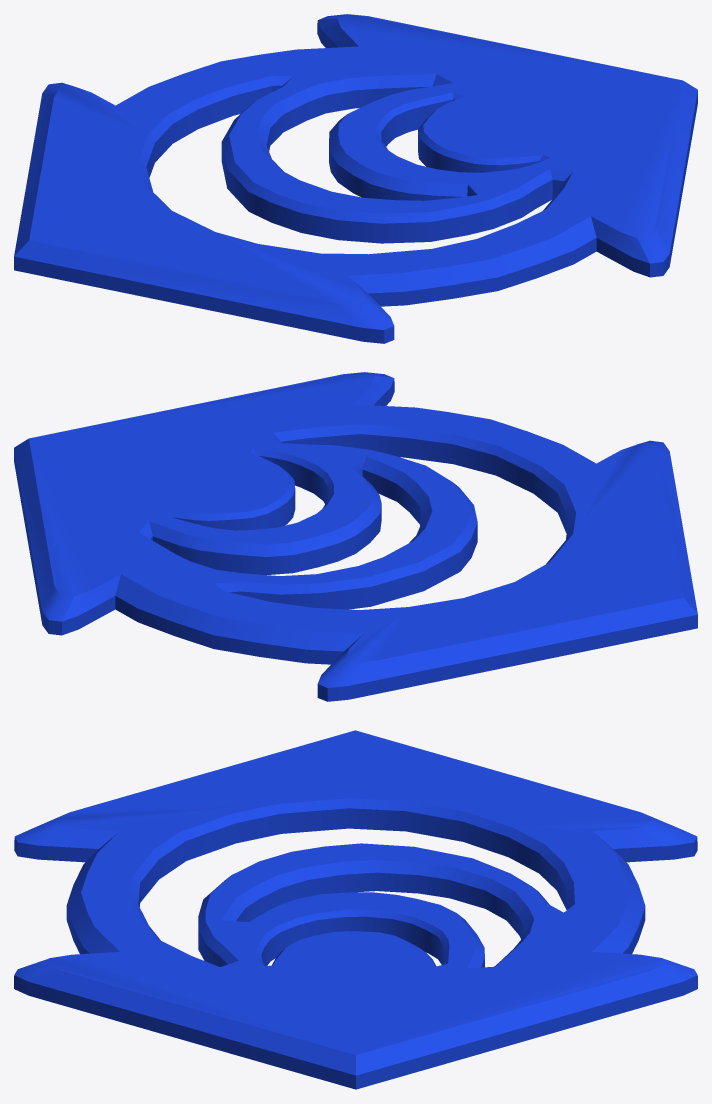
The model's file is crest.fbx.
3 views of the same model, one above another, from view 1: azimuth 30°, elevation 25°; view 2: azimuth 150°, elevation 25°; view 3: azimuth 270°, elevation 25° (orthographic).
Parts seen in each view (by area): view 1: Plane; view 2: Plane; view 3: Plane.
Boxes of the visible parts, bbox=[...] form: Plane: bbox=[14, 14, 697, 343]; Plane: bbox=[14, 372, 697, 701]; Plane: bbox=[14, 730, 697, 1089].
Size of the model in its own units: 8.88 by 0.3302 by 7.56.
